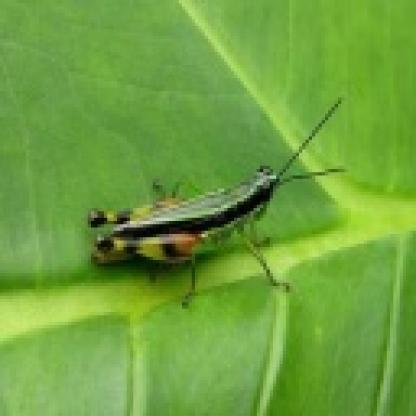grasshopper: (73, 107, 367, 289)
